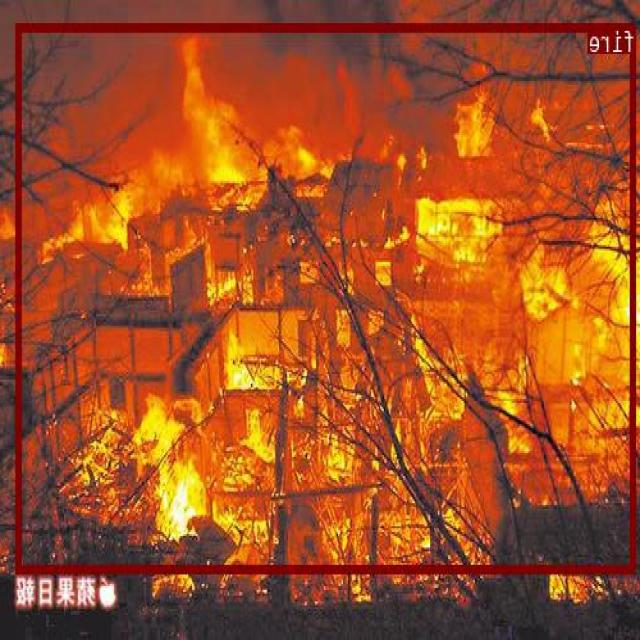fire: (17, 21, 637, 572)
